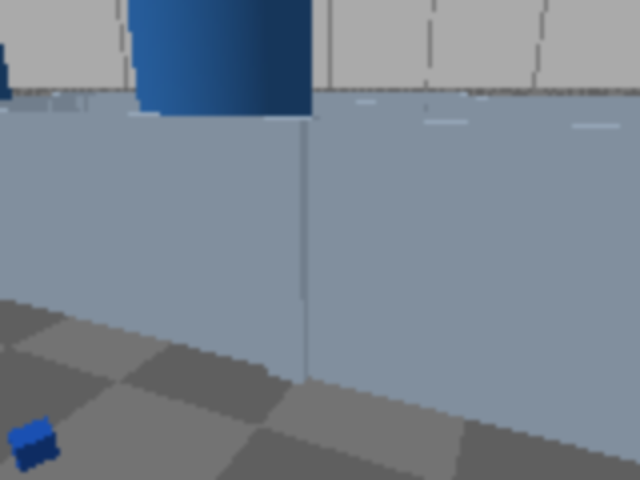person: (0, 0, 18, 172)
puck: (8, 417, 59, 474)
